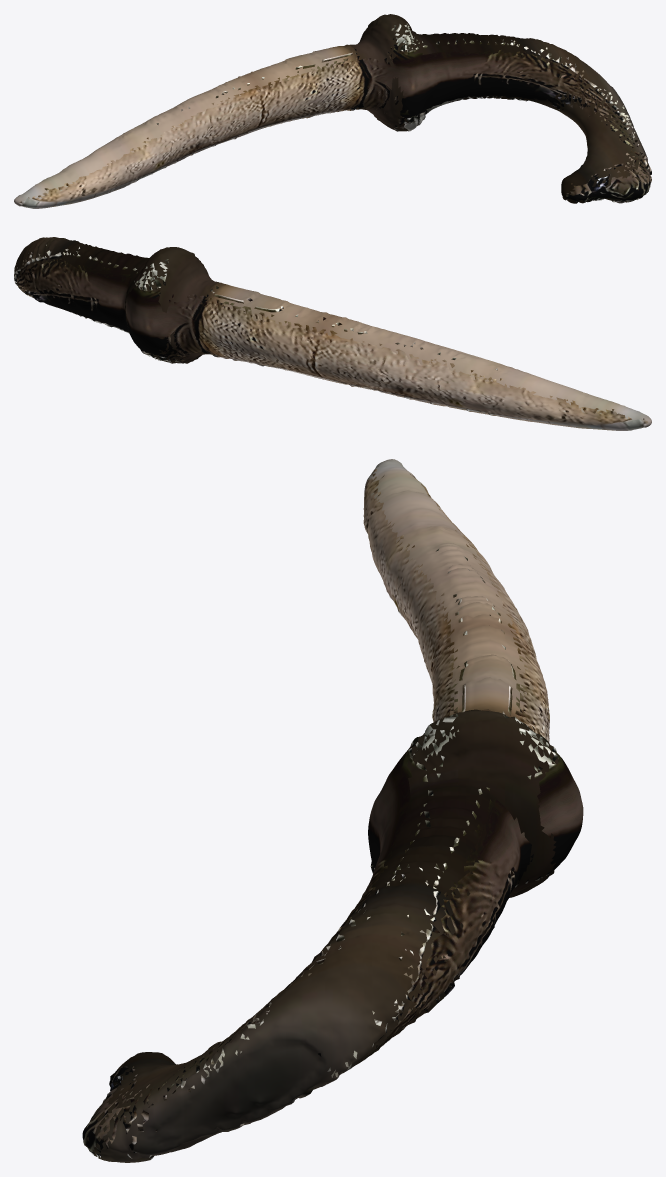
File: kfl-2218.glb
3 renders of one model, top to bottom at view 1: azimuth 30°, elevation 25°; view 2: azimuth 150°, elevation 25°; view 3: azimuth 270°, elevation 25°, orthographic. The views are drawn at different scales.
Visible parts, largest first — view 1: kfl-2218; view 2: kfl-2218; view 3: kfl-2218.
Boxes of the visible parts, box(x1,y1,x2,y2) form: kfl-2218: box(14, 14, 651, 208); kfl-2218: box(14, 237, 651, 430); kfl-2218: box(82, 459, 583, 1162).
Size of the model in its own units: 0.9872 by 0.2469 by 0.3705.
Materials: 4 (4 with a texture image).
